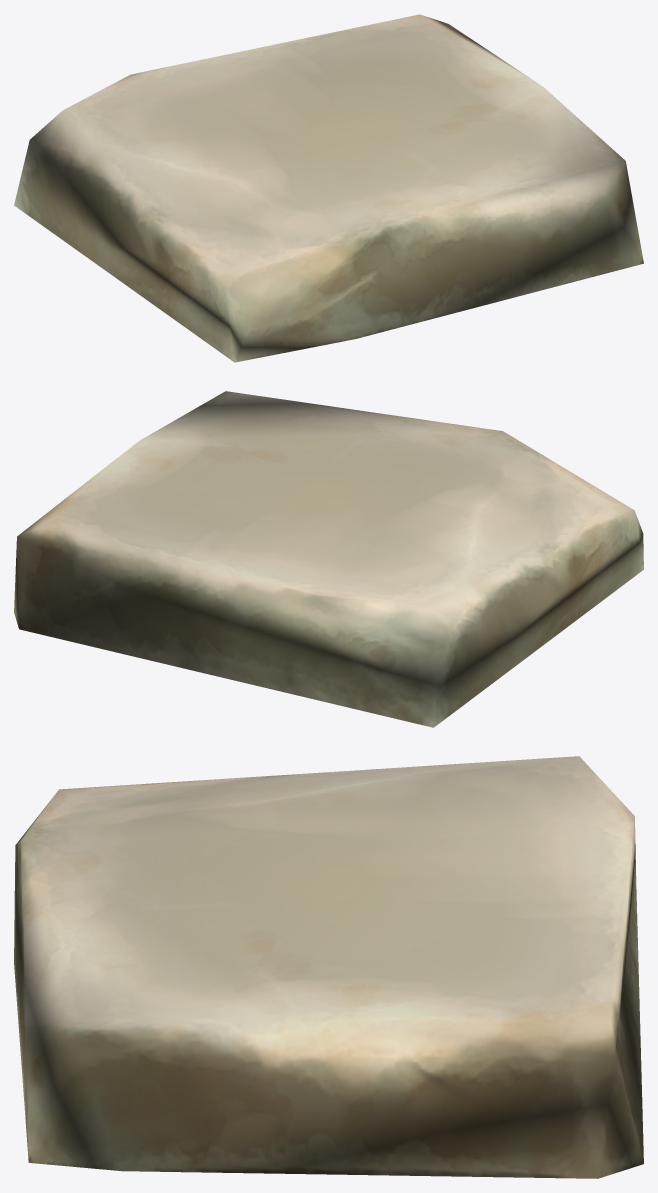
File: mesh_StoneSlab_2.fbx
3 renders of one model, top to bottom at view 1: azimuth 30°, elevation 25°; view 2: azimuth 150°, elevation 25°; view 3: azimuth 270°, elevation 25°, orthographic. The views are drawn at different scales.
Parts seen in each view (by area): view 1: StoneSlab_2_LOD0; view 2: StoneSlab_2_LOD0; view 3: StoneSlab_2_LOD0.
Part boxes in pixels (x1=…): StoneSlab_2_LOD0: x1=14, y1=14, x2=643, y2=362; StoneSlab_2_LOD0: x1=14, y1=391, x2=643, y2=727; StoneSlab_2_LOD0: x1=14, y1=756, x2=643, y2=1178.
Size of what is drawn, in the model's own units: 2.28 by 0.5143 by 2.04.
1 material, 1 textured.
